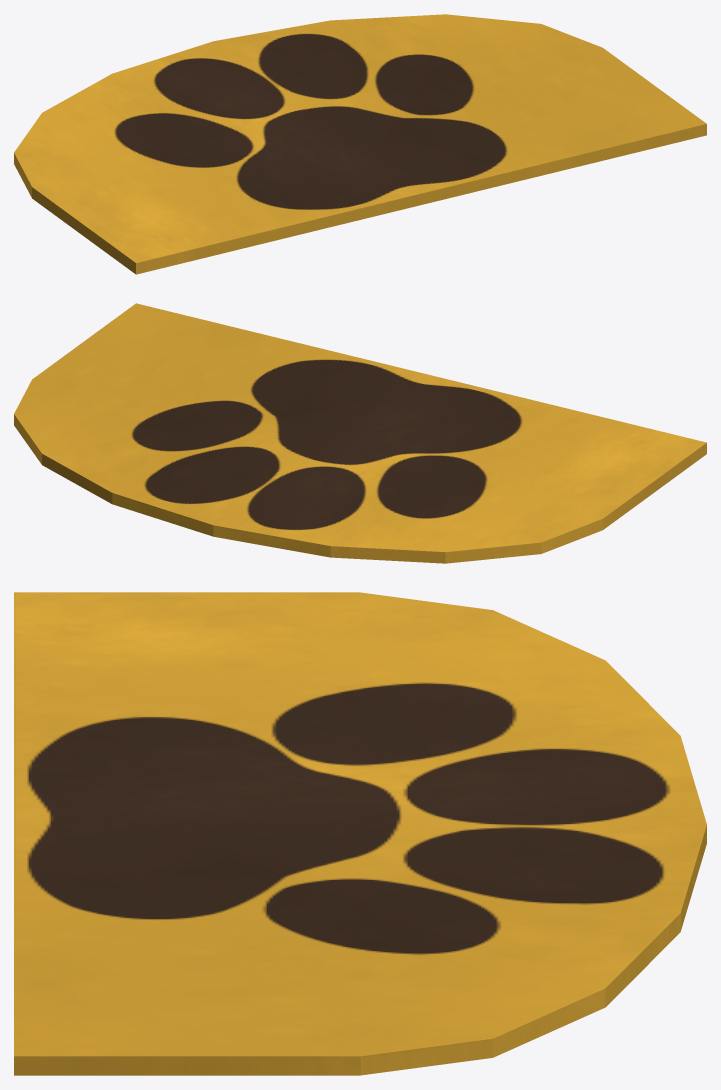
File: team foot.fbx
The picture shows the model from 3 angles, top to bottom: view 1: azimuth 30°, elevation 25°; view 2: azimuth 150°, elevation 25°; view 3: azimuth 270°, elevation 25°; orthographic projection. The views are drawn at different scales.
Parts seen in each view (by area): view 1: foot mat; view 2: foot mat; view 3: foot mat.
Boxes of the visible parts, <box> form: foot mat: <box>14,14,706,274</box>; foot mat: <box>14,303,706,563</box>; foot mat: <box>14,592,706,1075</box>.
Size of the model in its own units: 317 by 6.08 by 200.
1 material, 1 textured.
